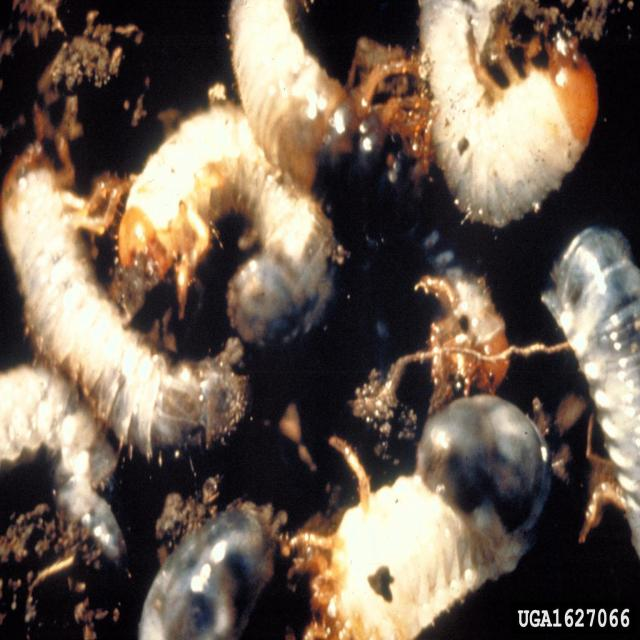Grub-Adult-: (4, 150, 243, 450), (308, 386, 566, 634), (123, 91, 345, 347)
